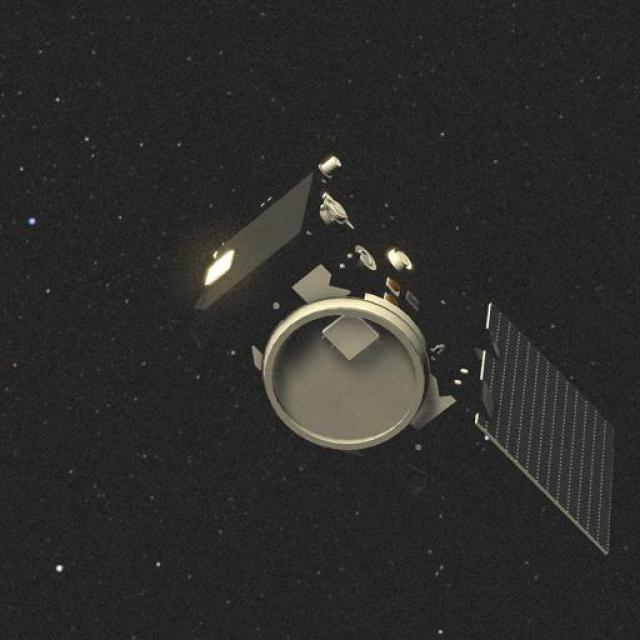proba_3_csc: (193, 136, 615, 548)
